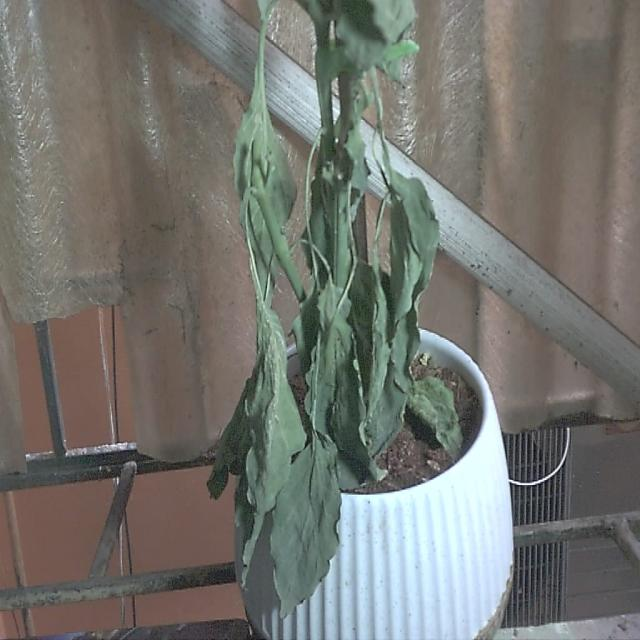Leaf: (238, 301, 304, 584), (266, 444, 342, 616)
